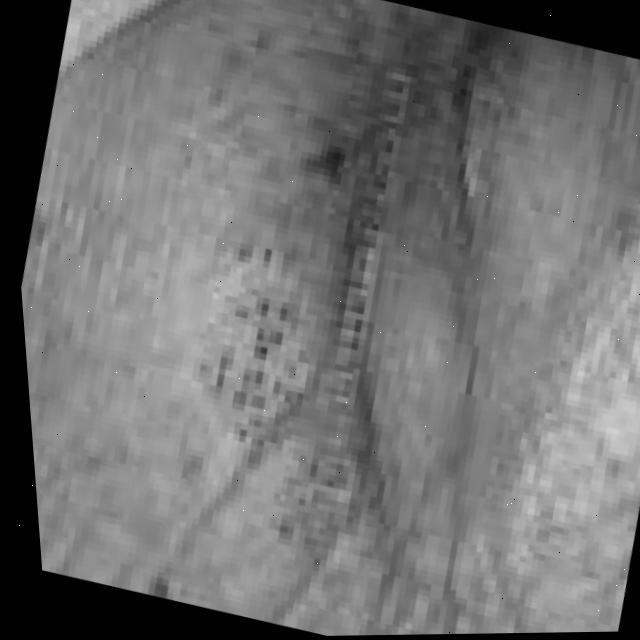Melasma: (131, 211, 436, 578)
